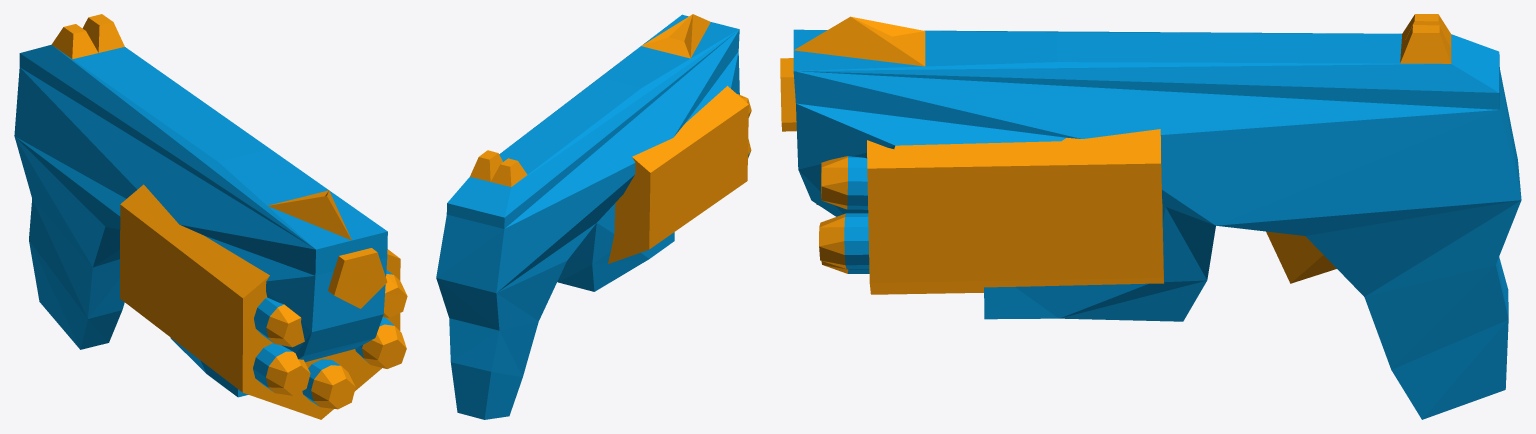
File: nerf_gun.glb
The picture shows the model from 3 angles, left to right: view 1: azimuth 30°, elevation 25°; view 2: azimuth 150°, elevation 25°; view 3: azimuth 270°, elevation 25°; orthographic projection. The views are drawn at different scales.
Visible parts, largest first — view 1: NerfGun; view 2: NerfGun; view 3: NerfGun.
Part boxes in pixels (bbox=[...]): NerfGun: bbox=[14, 14, 407, 419]; NerfGun: bbox=[436, 14, 751, 419]; NerfGun: bbox=[780, 14, 1521, 419].
Size of the model in its own units: 0.3594 by 0.7096 by 1.22.
